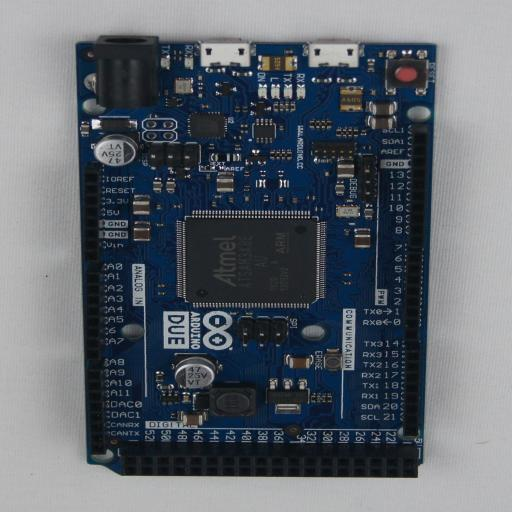Arduino Due: (76, 36, 434, 478)
